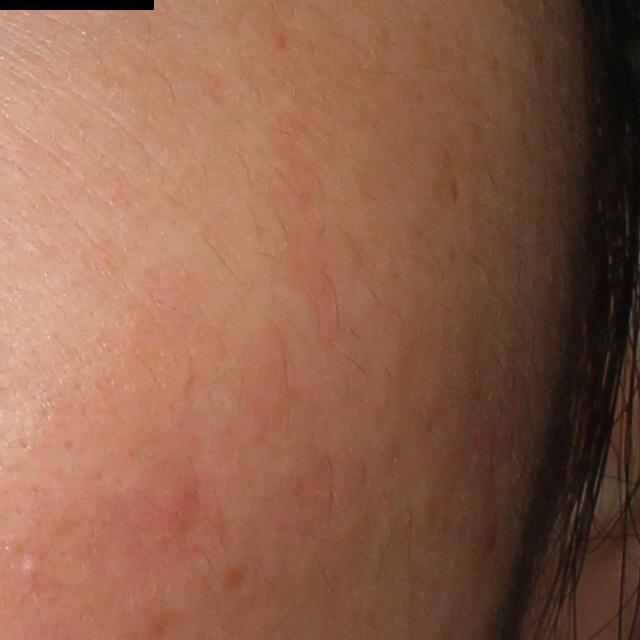comedo: (18, 556, 43, 579)
papule: (482, 521, 500, 552)
